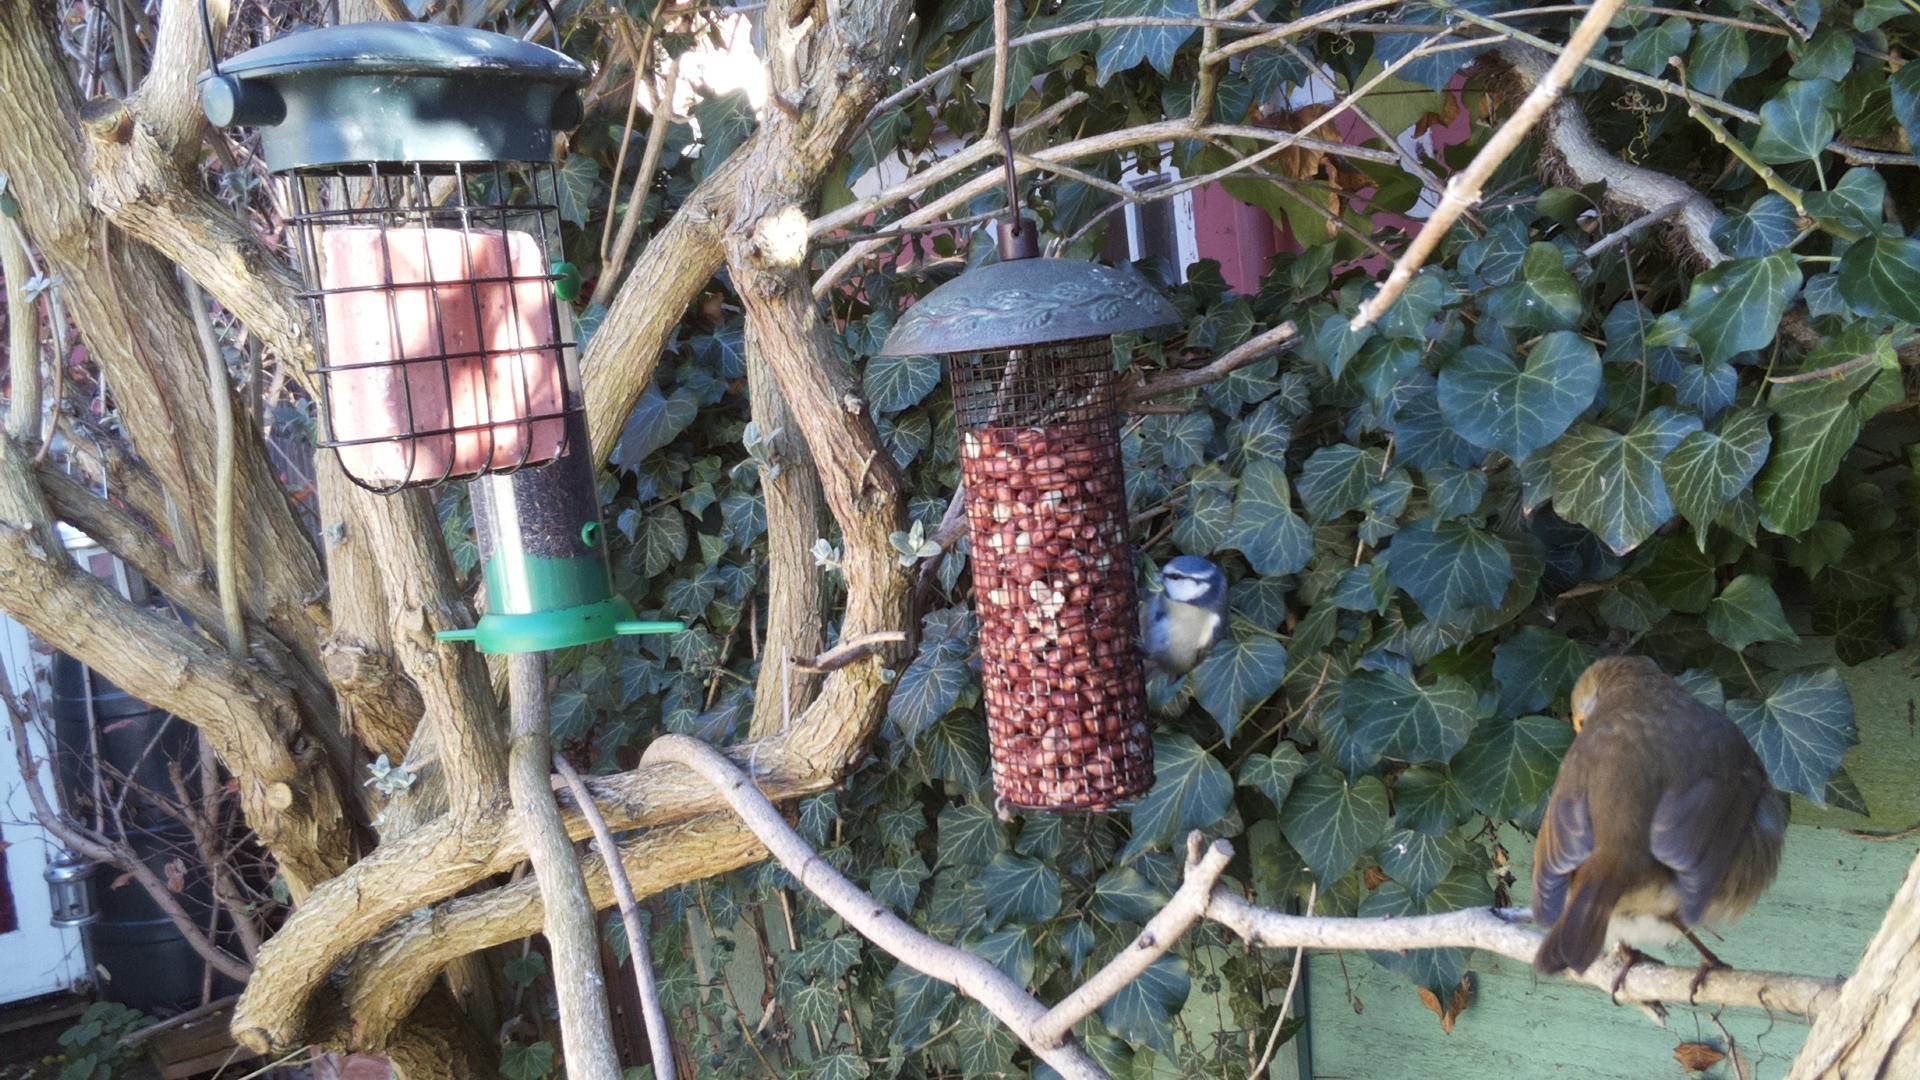blue tit: (1124, 553, 1226, 704)
robin: (1528, 655, 1799, 1011)
